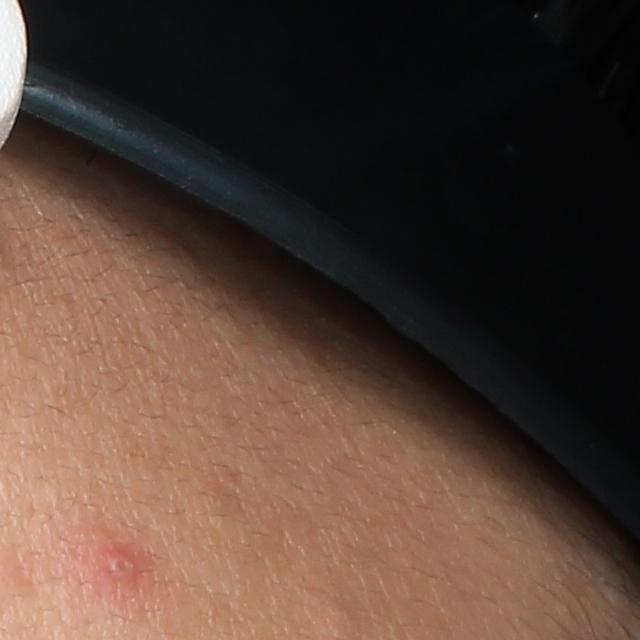papule: (99, 543, 144, 584)
